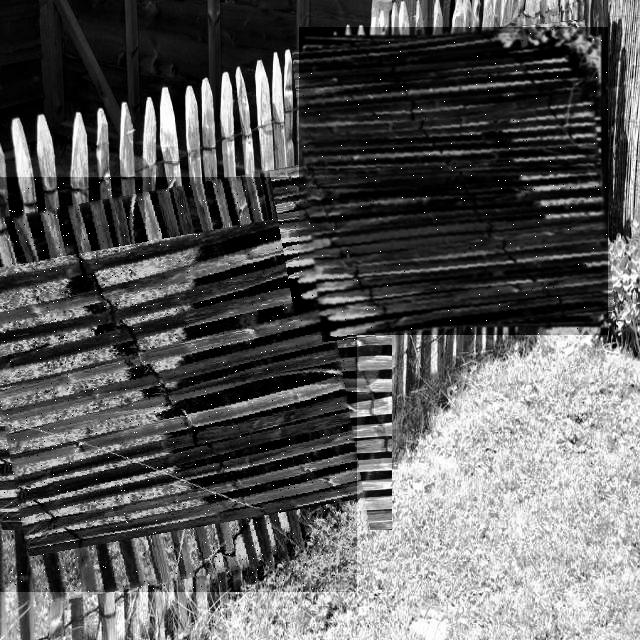fences: (0, 177, 357, 592), (299, 27, 608, 335)
